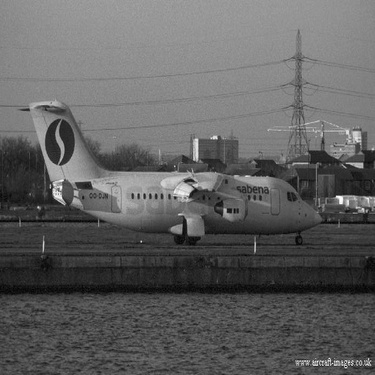airplane: (9, 86, 326, 255)
